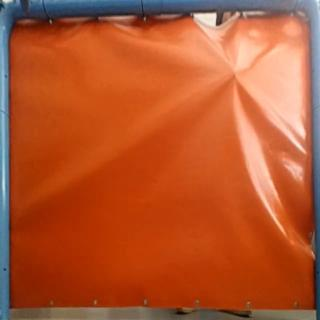Hit-hRxx: (227, 62, 246, 84)
